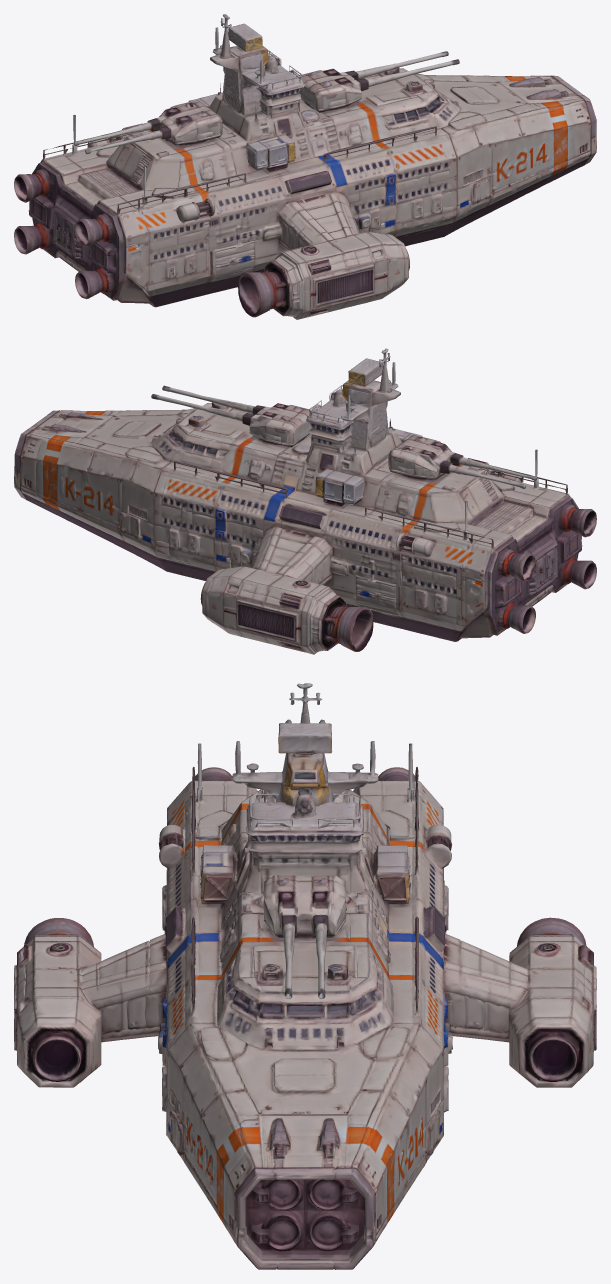
The model's file is corvette.glb.
The picture shows the model from 3 angles, top to bottom: view 1: azimuth 30°, elevation 25°; view 2: azimuth 150°, elevation 25°; view 3: azimuth 270°, elevation 25°; orthographic projection. The views are drawn at different scales.
Parts seen in each view (by area): view 1: tripo_node_7cfe5ba9-53bd-4295-83c7-8e3afed8ee27; view 2: tripo_node_7cfe5ba9-53bd-4295-83c7-8e3afed8ee27; view 3: tripo_node_7cfe5ba9-53bd-4295-83c7-8e3afed8ee27.
Part boxes in pixels (left/top/right/bottom): tripo_node_7cfe5ba9-53bd-4295-83c7-8e3afed8ee27: left=14, top=14, right=596, bottom=319; tripo_node_7cfe5ba9-53bd-4295-83c7-8e3afed8ee27: left=14, top=348, right=596, bottom=654; tripo_node_7cfe5ba9-53bd-4295-83c7-8e3afed8ee27: left=14, top=683, right=596, bottom=1269.
Size of the model in its own units: 0.9852 by 0.4369 by 0.6329.
Materials: 1 (1 with a texture image).
